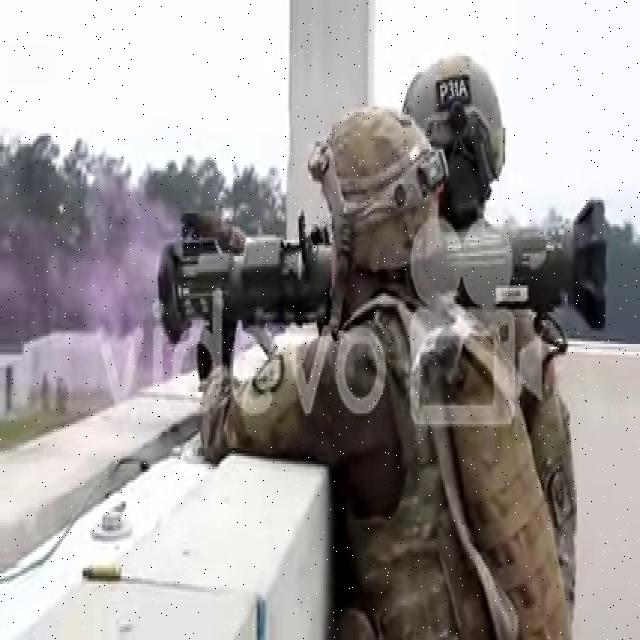bazooka: (150, 189, 617, 343)
